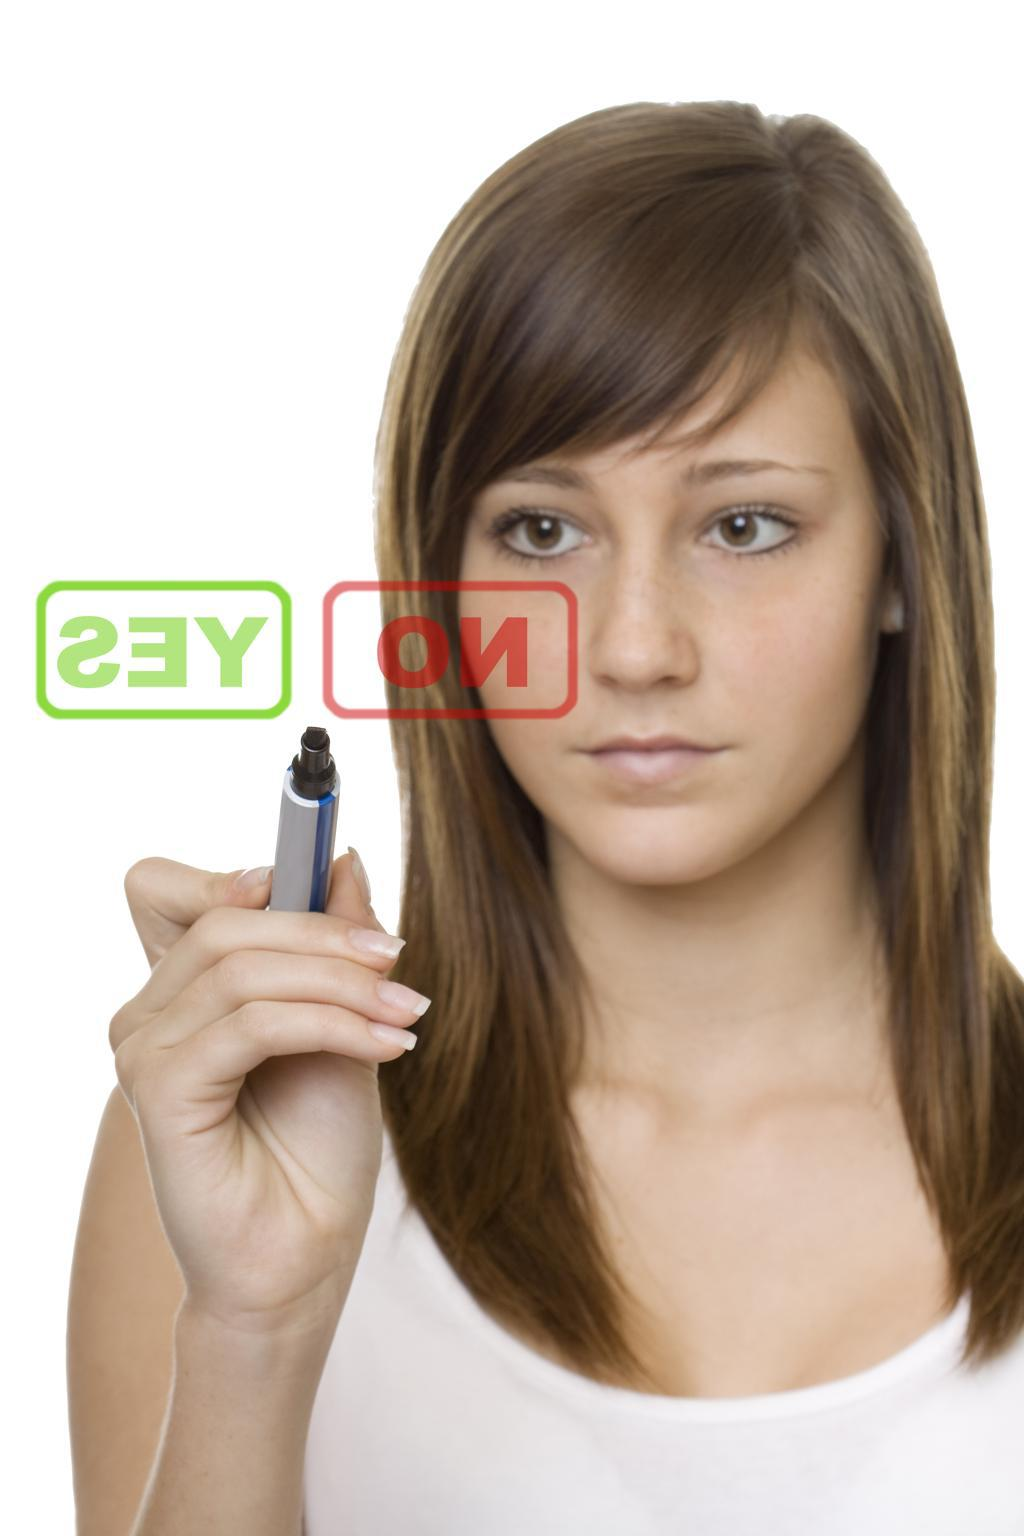face: (457, 328, 895, 887)
